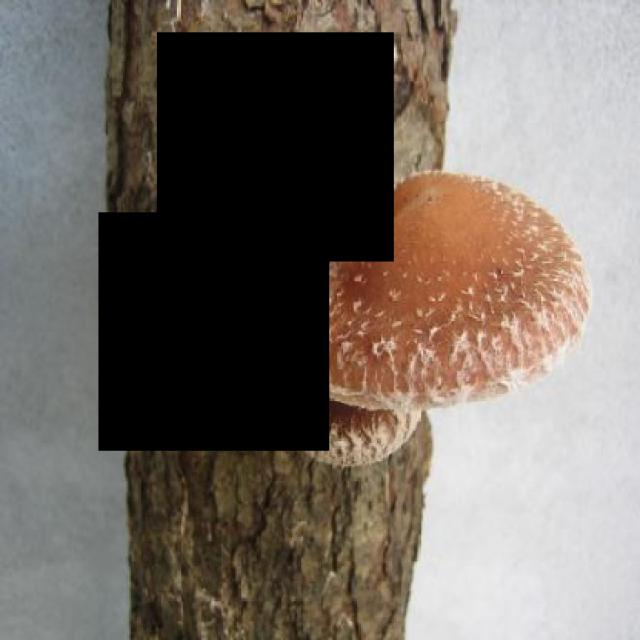Mushroom: (99, 212, 329, 451), (157, 32, 394, 262)
